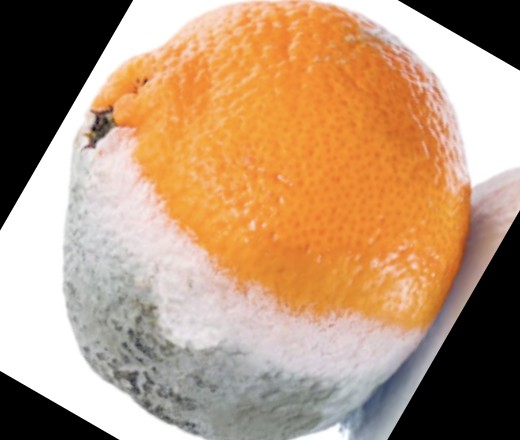rotten_orange: (64, 1, 472, 440)
